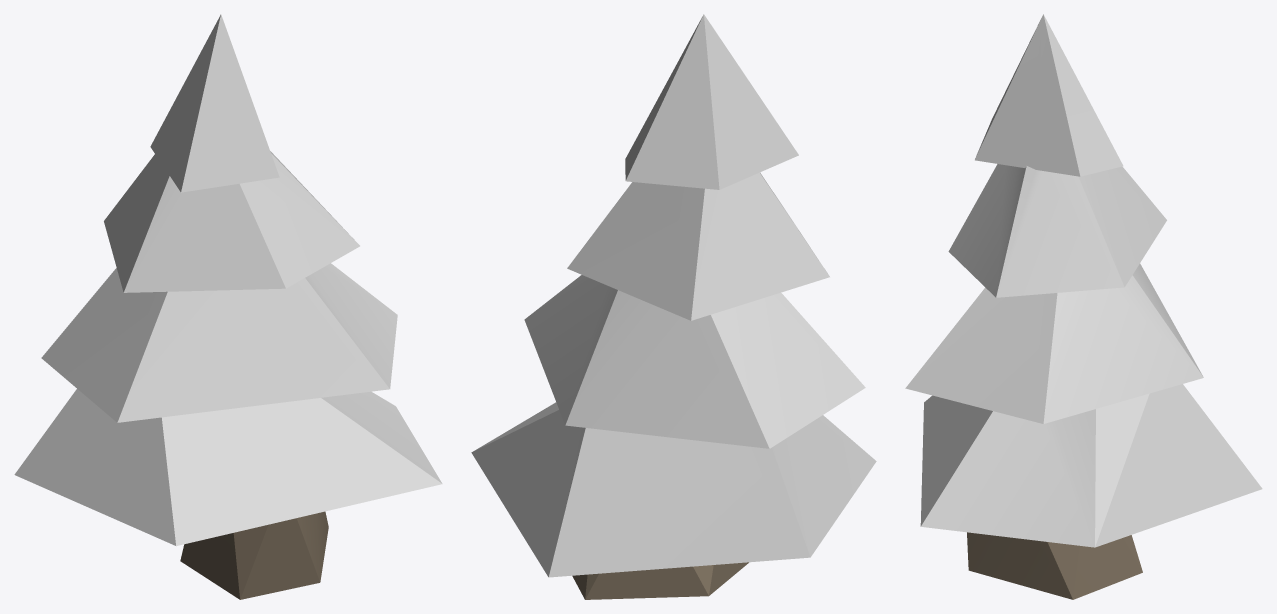
File: Vegetation_Tree_Pine_Snow_02.fbx
The picture shows the model from 3 angles, left to right: view 1: azimuth 30°, elevation 25°; view 2: azimuth 150°, elevation 25°; view 3: azimuth 270°, elevation 25°; orthographic projection. The views are drawn at different scales.
Parts seen in each view (by area): view 1: Vegetation_Tree_Pine_Snow_02; view 2: Vegetation_Tree_Pine_Snow_02; view 3: Vegetation_Tree_Pine_Snow_02.
Boxes of the visible parts, x1,y1,x2,y2 form: Vegetation_Tree_Pine_Snow_02: (14,14,442,599); Vegetation_Tree_Pine_Snow_02: (471,14,876,599); Vegetation_Tree_Pine_Snow_02: (905,14,1262,599).
Bounding box in the file's own units: 97.36 × 144 × 88.38.
